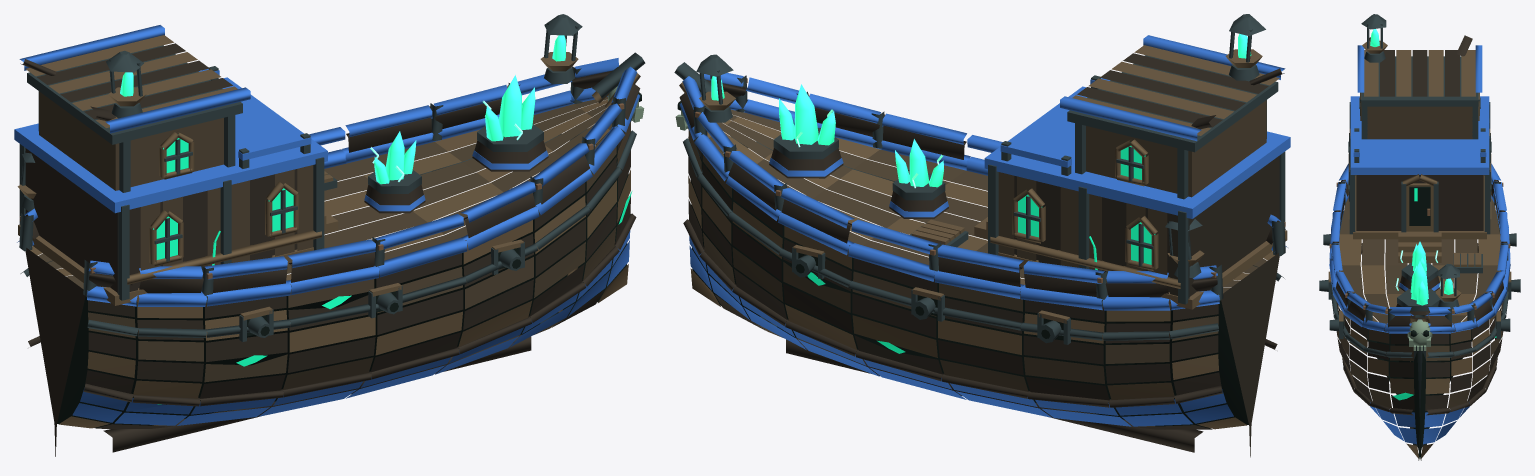
3 renders of one model, left to right at view 1: azimuth 30°, elevation 25°; view 2: azimuth 150°, elevation 25°; view 3: azimuth 270°, elevation 25°, orthographic. The views are drawn at different scales.
Parts seen in each view (by area): view 1: 飞行的荷兰人; view 2: 飞行的荷兰人; view 3: 飞行的荷兰人.
Boxes of the visible parts, <box> form: 飞行的荷兰人: <box>14,14,645,456</box>; 飞行的荷兰人: <box>674,14,1290,457</box>; 飞行的荷兰人: <box>1319,14,1520,460</box>.
Size of the model in its own units: 1.65 by 1.13 by 0.7092.
